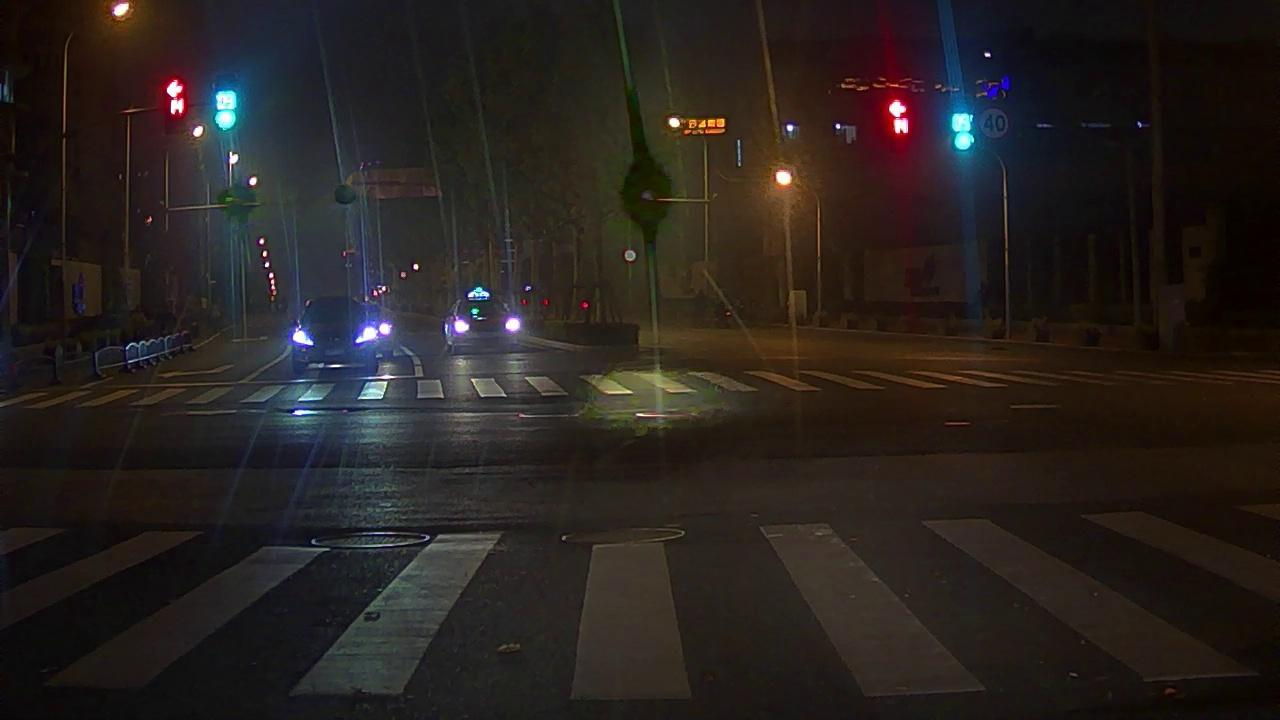traffic_light: (953, 97, 976, 152), (214, 82, 237, 133), (890, 101, 911, 147), (166, 80, 184, 132)
